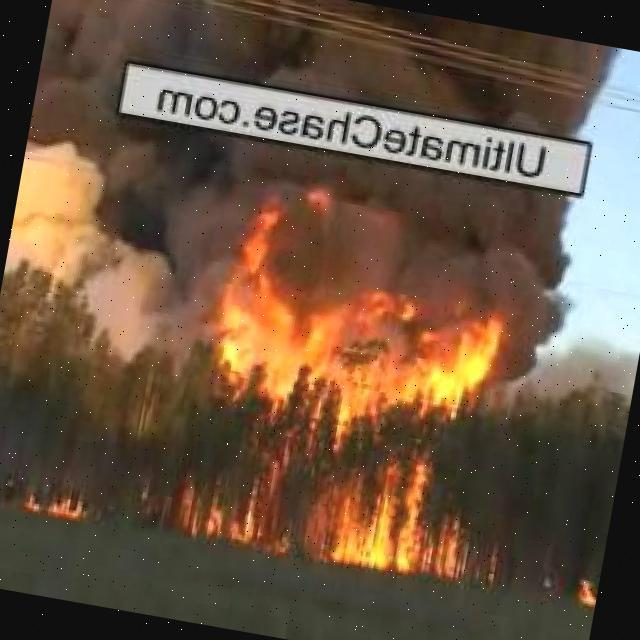Fire: (177, 247, 509, 582), (16, 485, 94, 524), (574, 568, 600, 616)
